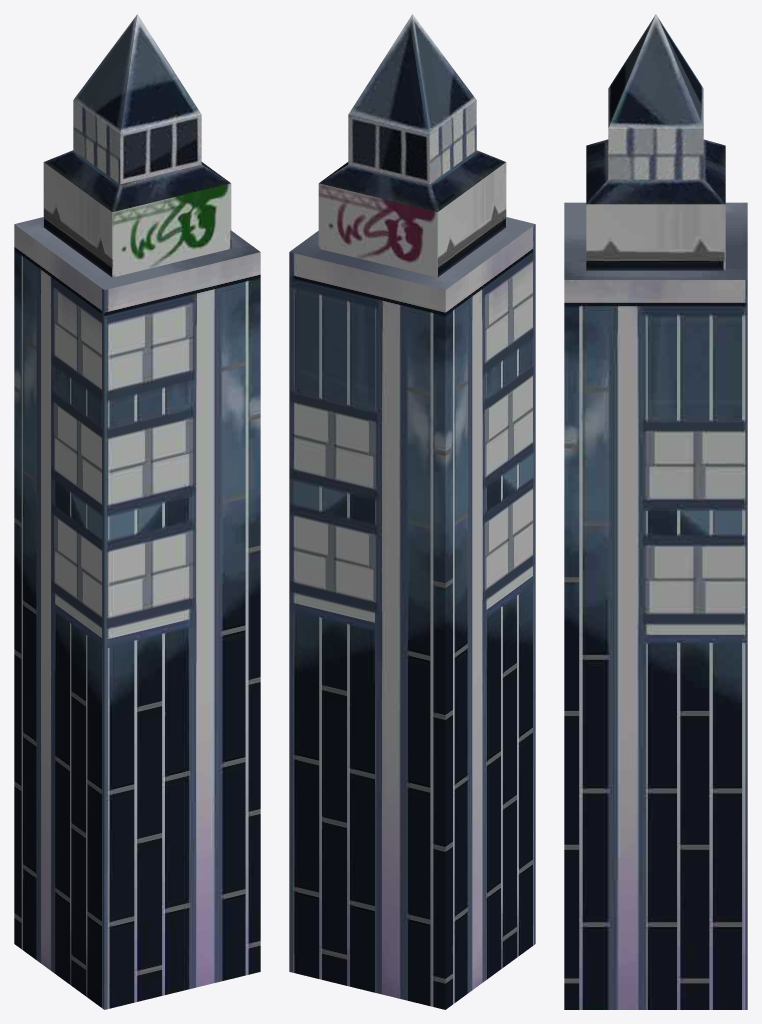
Rendered from House_8.fbx.
The picture shows the model from 3 angles, left to right: view 1: azimuth 30°, elevation 25°; view 2: azimuth 150°, elevation 25°; view 3: azimuth 270°, elevation 25°; orthographic projection.
Visible parts, largest first — view 1: Box028; view 2: Box028; view 3: Box028.
Part boxes in pixels (bbox=[...]): Box028: bbox=[14, 14, 260, 1009]; Box028: bbox=[289, 14, 535, 1009]; Box028: bbox=[564, 14, 747, 1009].
Size of the model in its own units: 25 by 144 by 25.
1 material, 1 textured.
